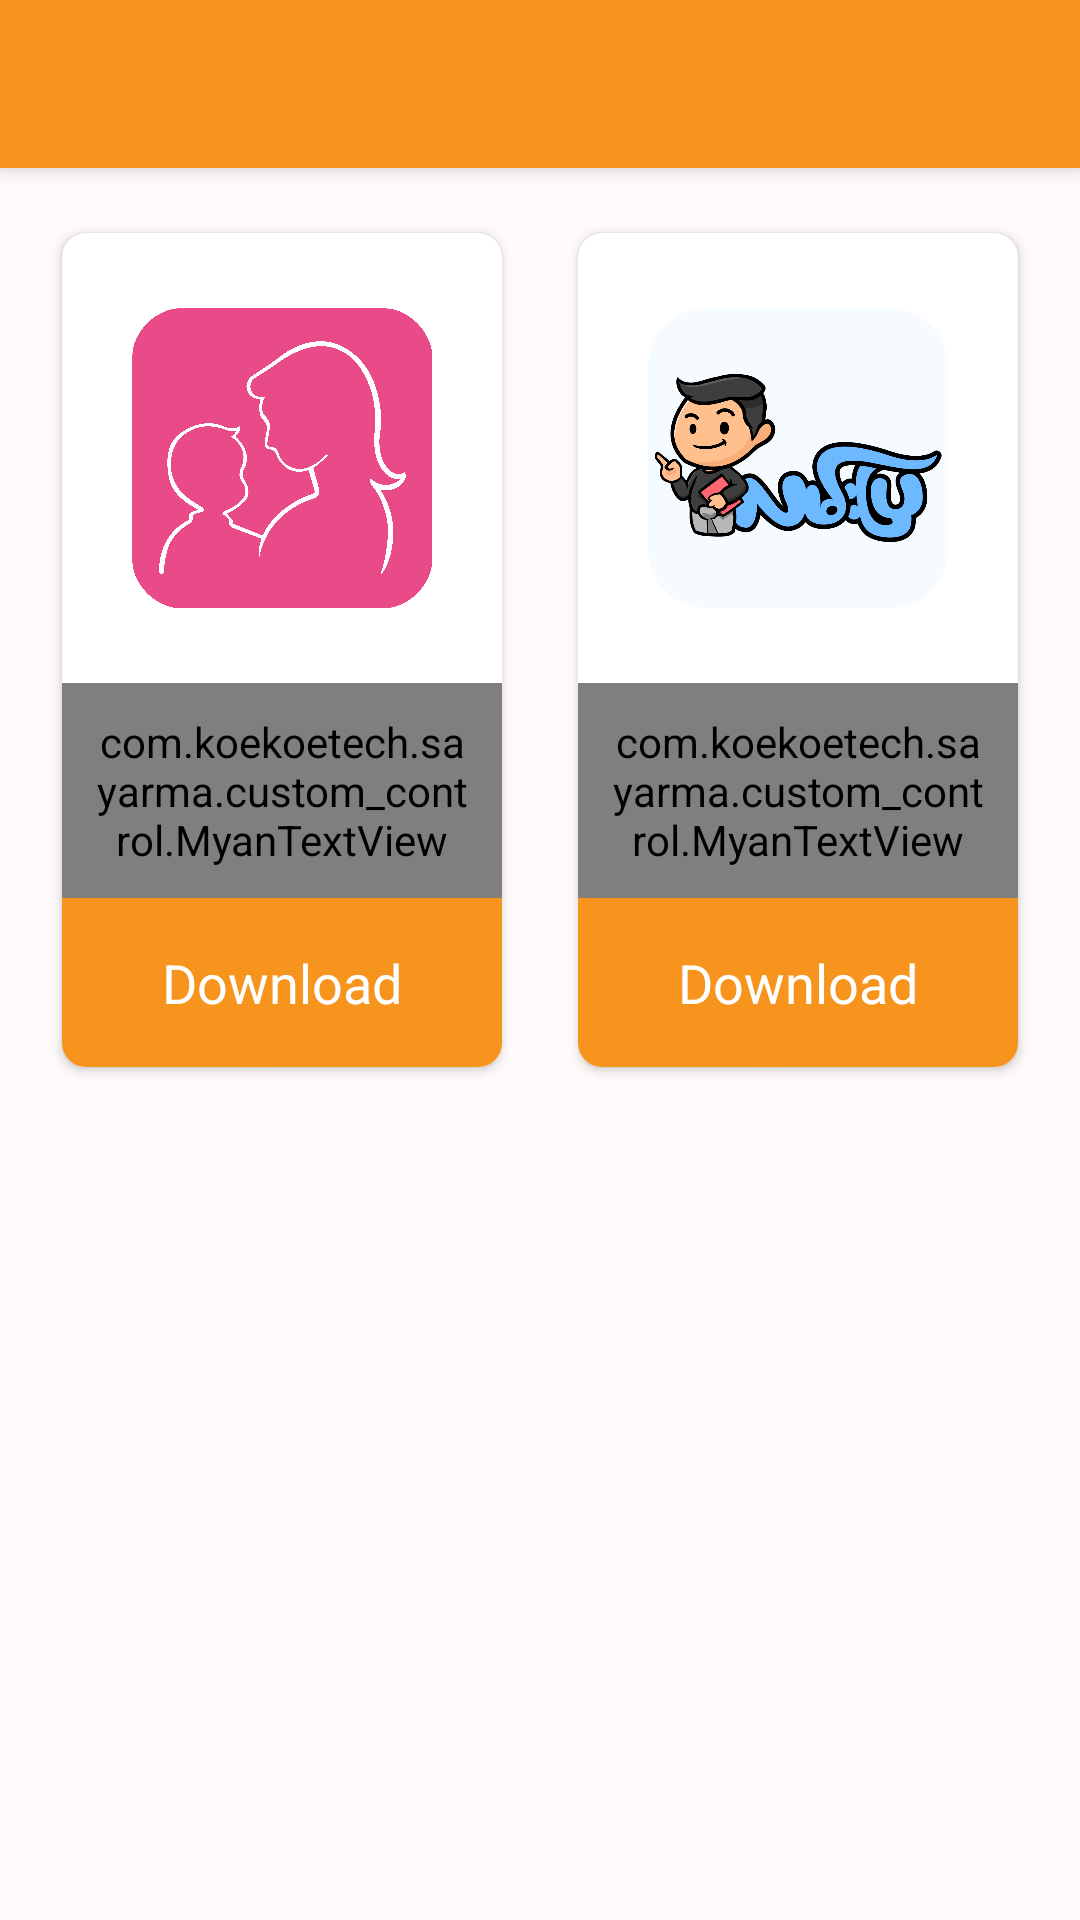

Icons on this 1080*1920 Android screen, each with its box as (x1, y1, x2, y2):
maymay: (132, 308, 432, 608)
